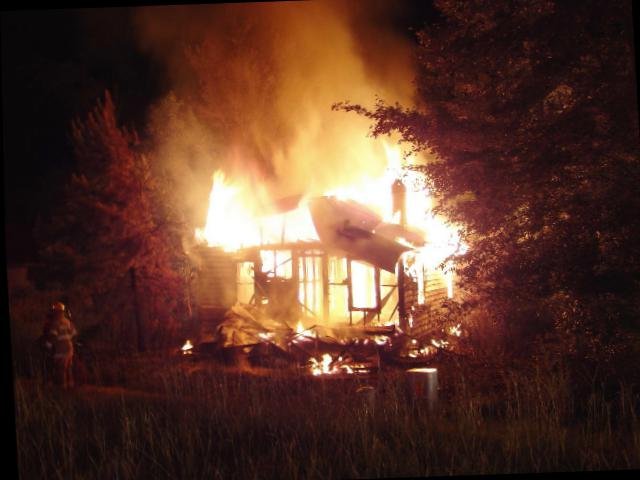fire: (147, 42, 515, 387)
